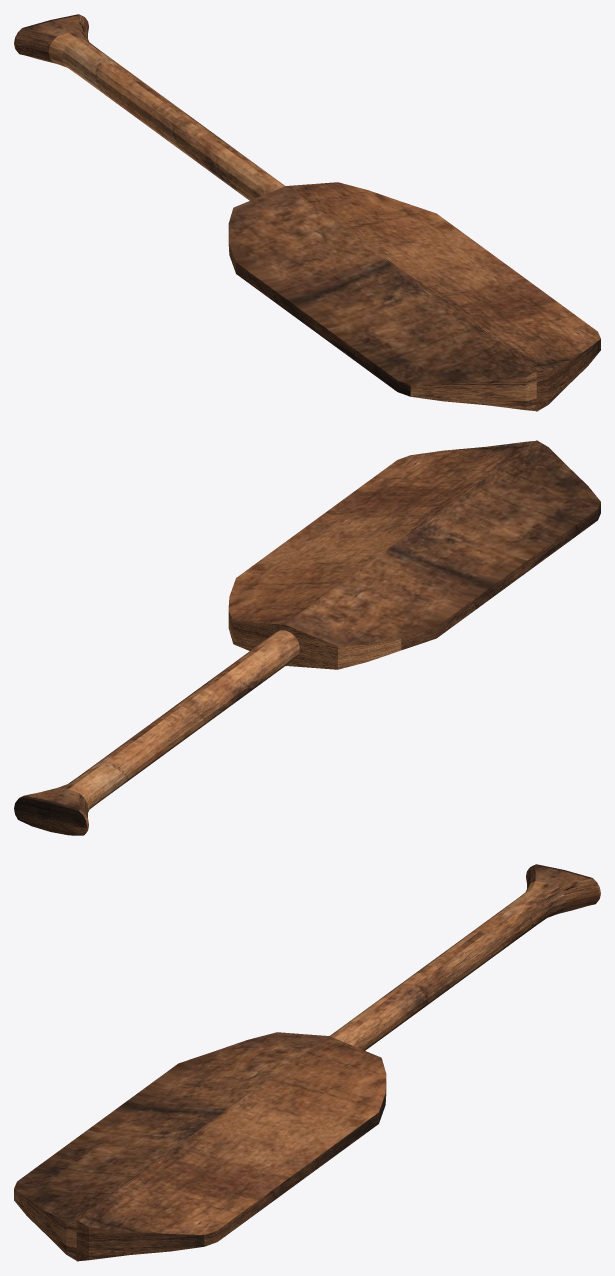
The model's file is kanantiu.glb.
The picture shows the model from 3 angles, top to bottom: view 1: azimuth 30°, elevation 25°; view 2: azimuth 150°, elevation 25°; view 3: azimuth 330°, elevation 25°; orthographic projection.
Visible parts, largest first — view 1: Cube; view 2: Cube; view 3: Cube.
Boxes of the visible parts, <box> form: Cube: <box>14,14,600,411</box>; Cube: <box>14,440,600,835</box>; Cube: <box>14,864,600,1261</box>.
Size of the model in its own units: 1.4 by 0.2757 by 5.9.
Materials: 1 (1 with a texture image).
